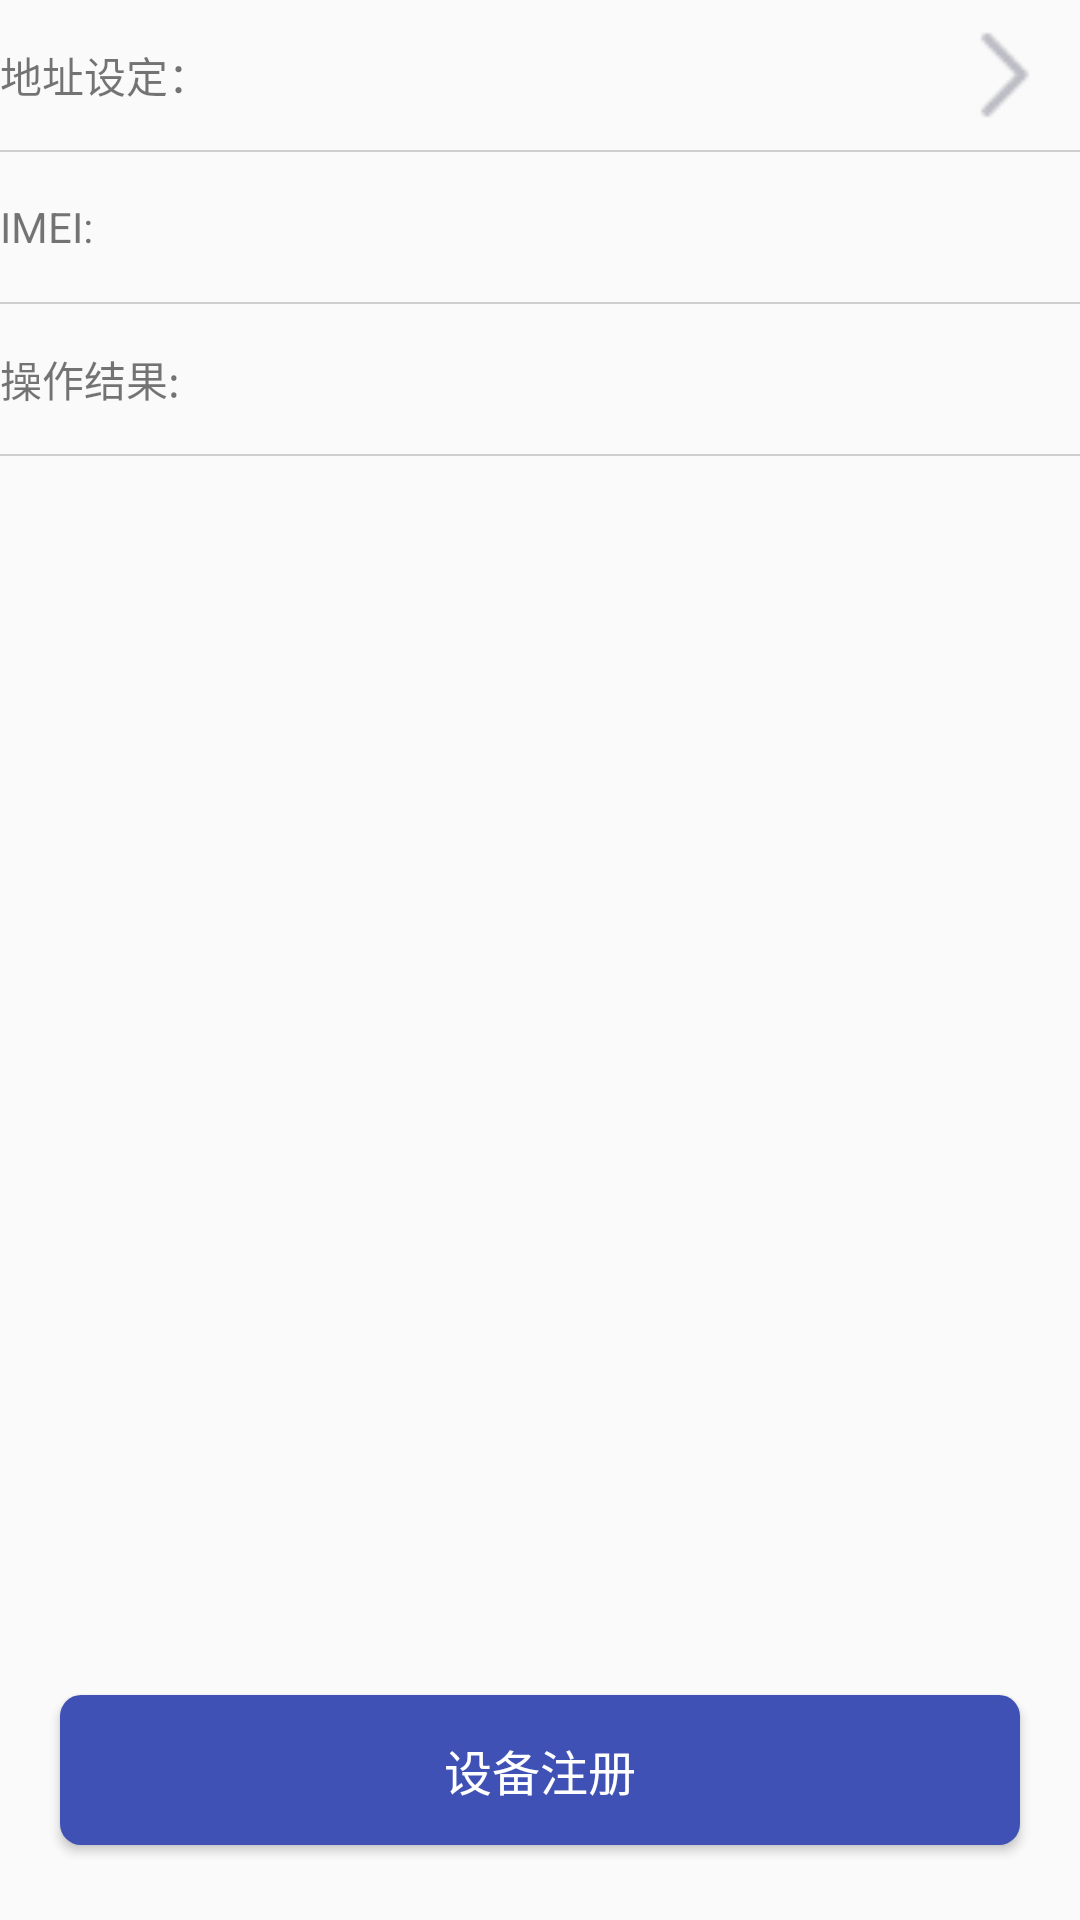

Icons on this 1080w x 1920h Android screen, each with the point to tap as (x,y):
jiantou: (1005,75)
